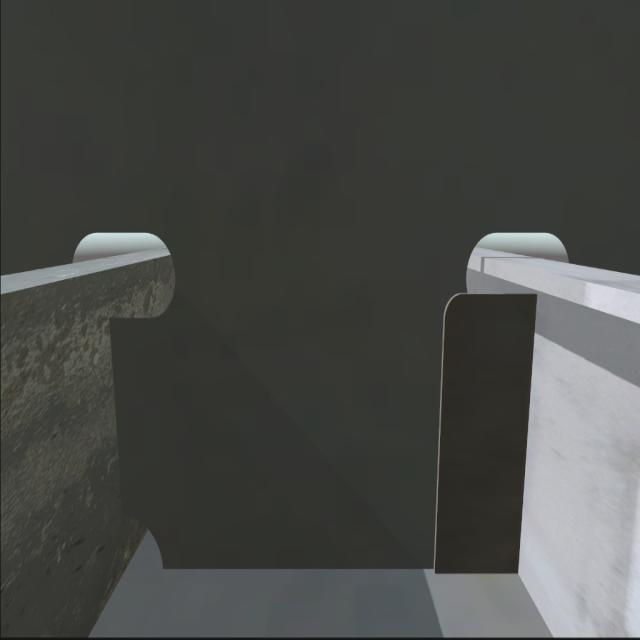fillet_hole: (127, 513, 169, 570)
fillet_yong_jeop_jang: (158, 551, 521, 583)
longi_yong_jeop_jang: (520, 287, 542, 583), (106, 315, 132, 512)
plate_CP05: (435, 294, 521, 572)
